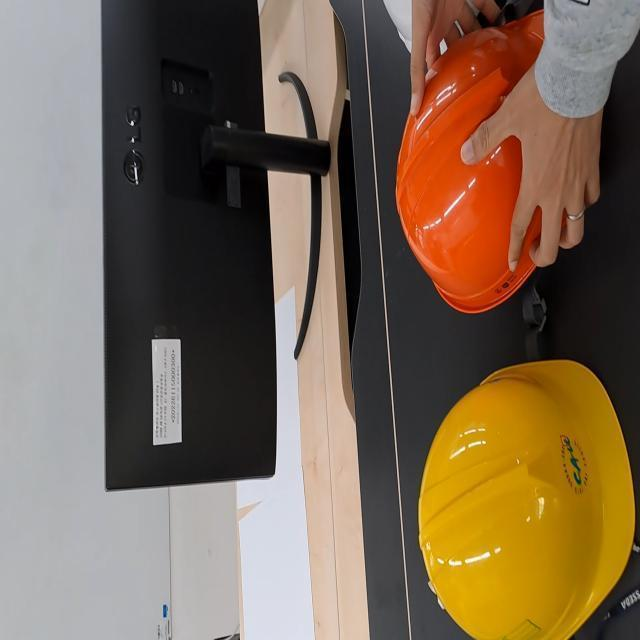vest: (392, 0, 640, 280)
